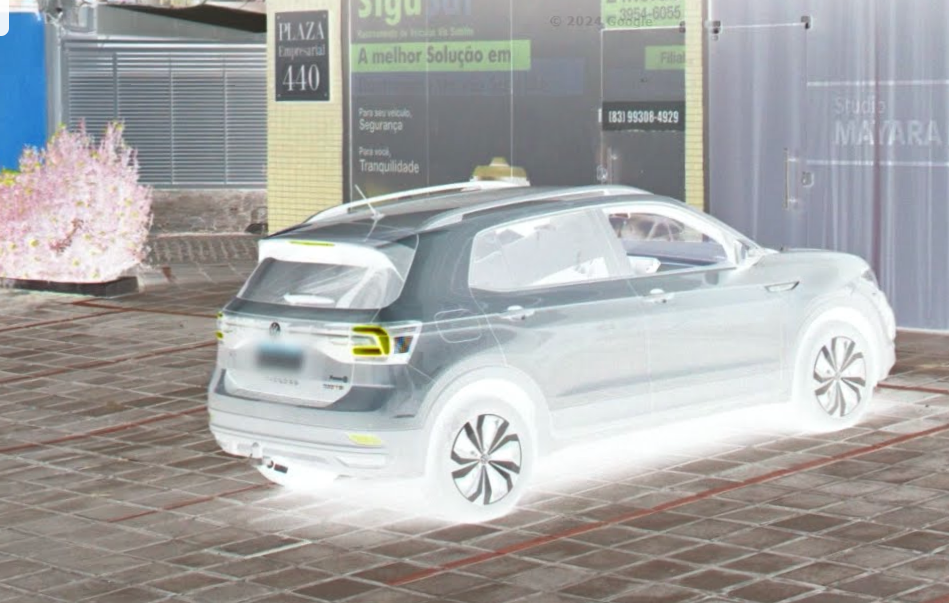car: (205, 176, 899, 526)
